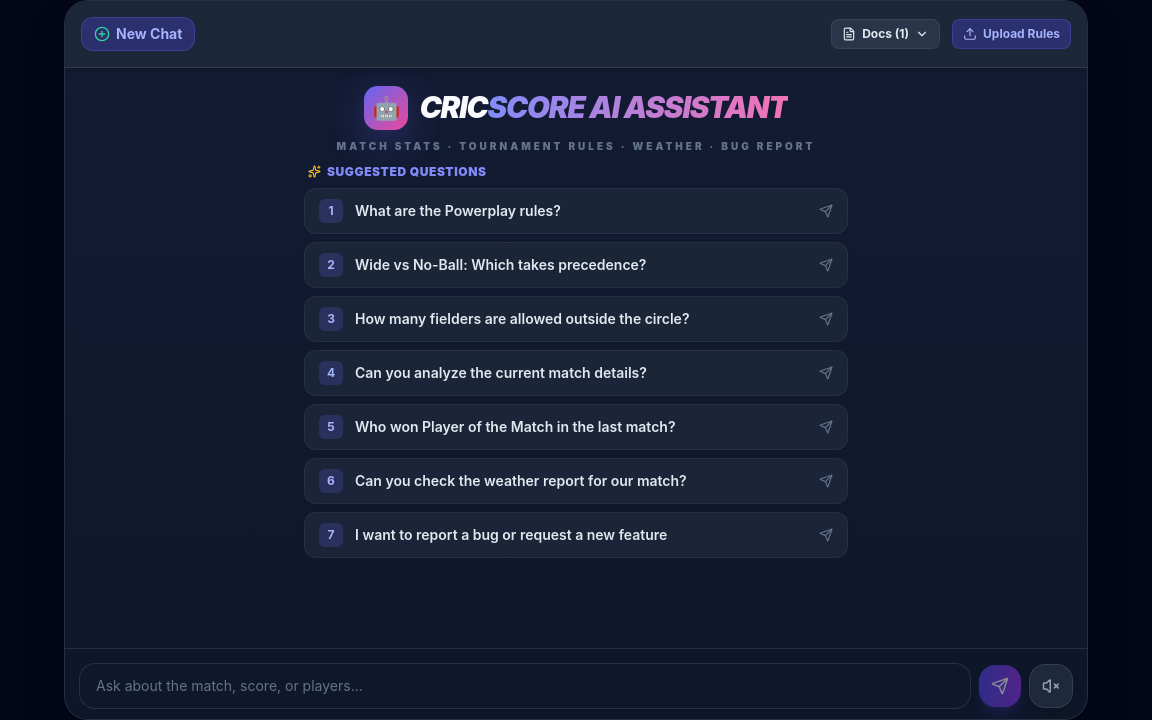
ChatComponent › fetches and displays uploaded docs count and list when isAdmin is true
The width and height of the screenshot is (1152, 720).
Expected: the text "Docs (1)" is shown, left=862, top=26, right=909, bottom=42
Click the button "Docs (1)" at (886, 34), box left=831, top=19, right=940, bottom=49
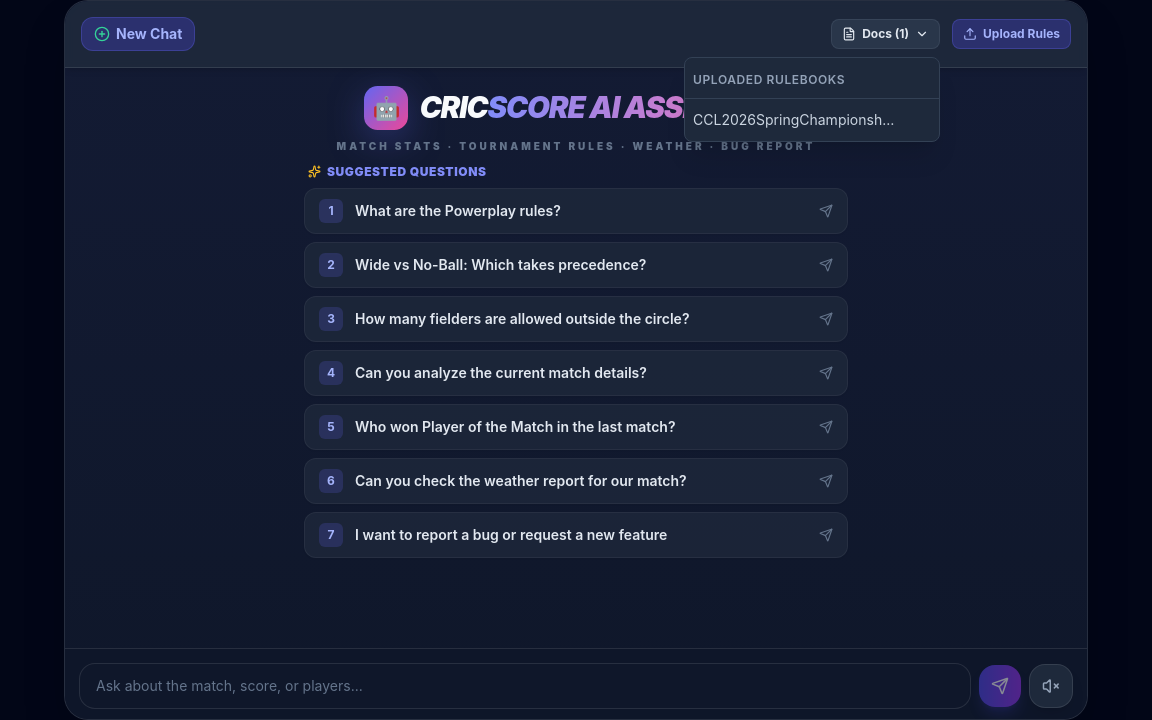
Expected: the text "CCL2026SpringChampionshipRulebook.pdf" is shown, left=693, top=110, right=905, bottom=130
